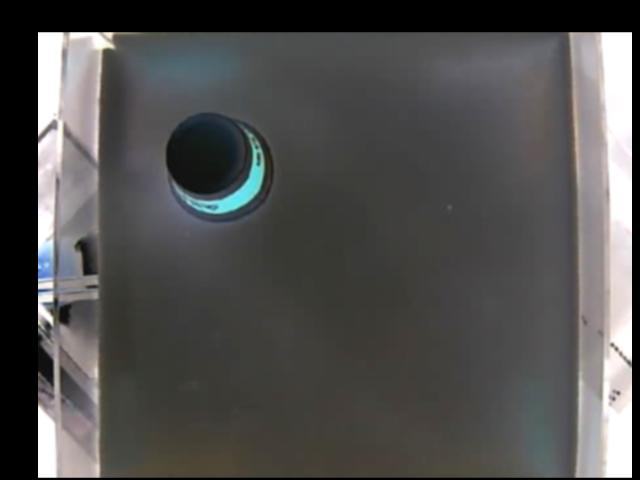Cup: (162, 110, 275, 228)
